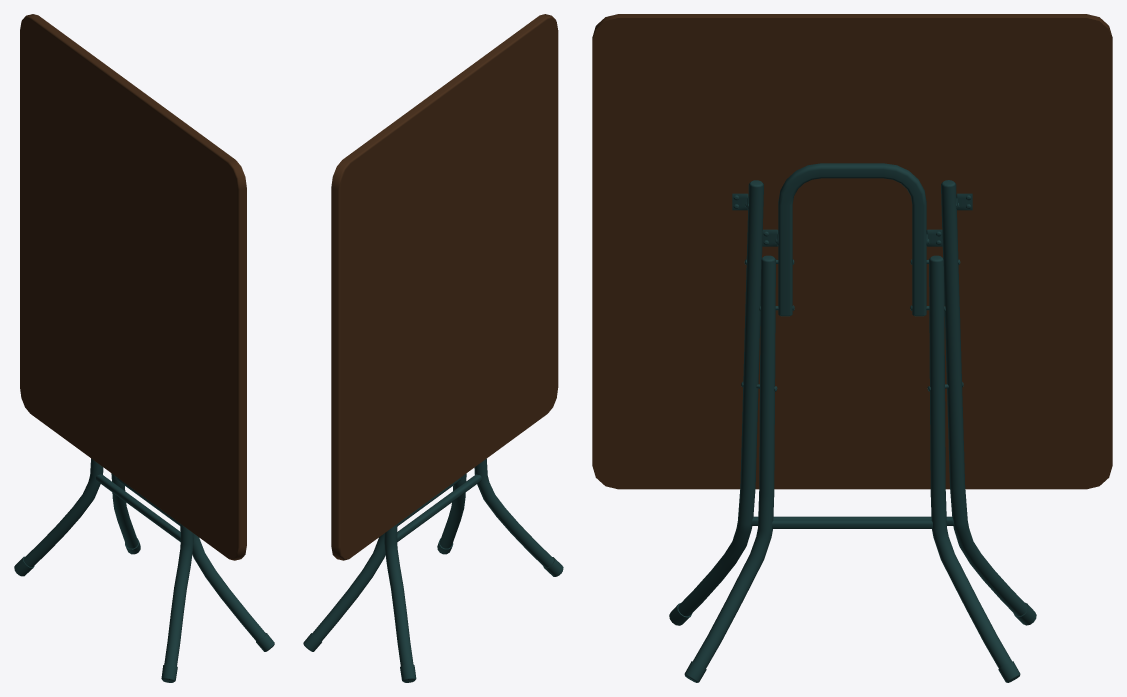
The model's file is folded_table.fbx.
3 renders of one model, left to right at view 1: azimuth 30°, elevation 25°; view 2: azimuth 150°, elevation 25°; view 3: azimuth 270°, elevation 25°, orthographic. The views are drawn at different scales.
Visible parts, largest first — view 1: folded_table_model; view 2: folded_table_model; view 3: folded_table_model.
Part boxes in pixels (bbox=[...]): folded_table_model: bbox=[14, 14, 274, 682]; folded_table_model: bbox=[303, 14, 563, 682]; folded_table_model: bbox=[592, 14, 1112, 682].
Size of the model in its own units: 0.344 by 1.48 by 1.11.
